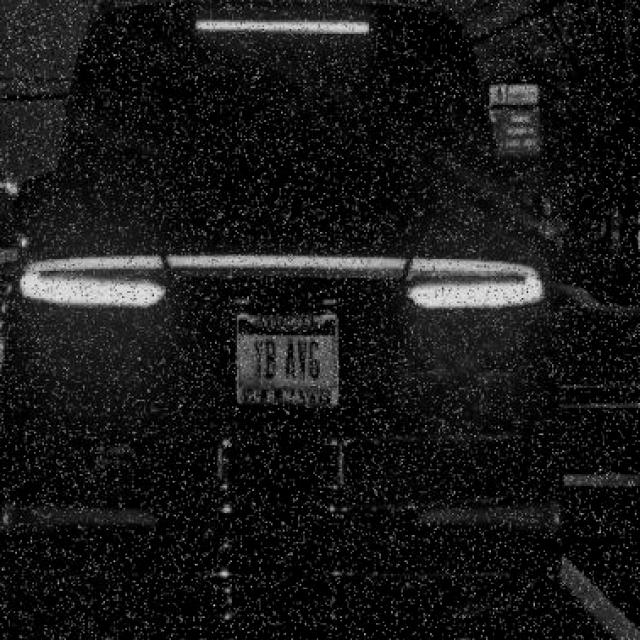licenseplate: (232, 311, 338, 406)
